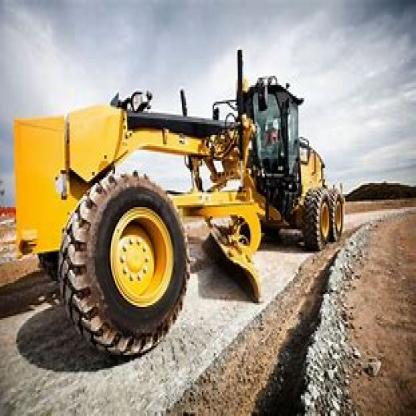bull_dozer/loader/grader: (16, 44, 355, 350)
